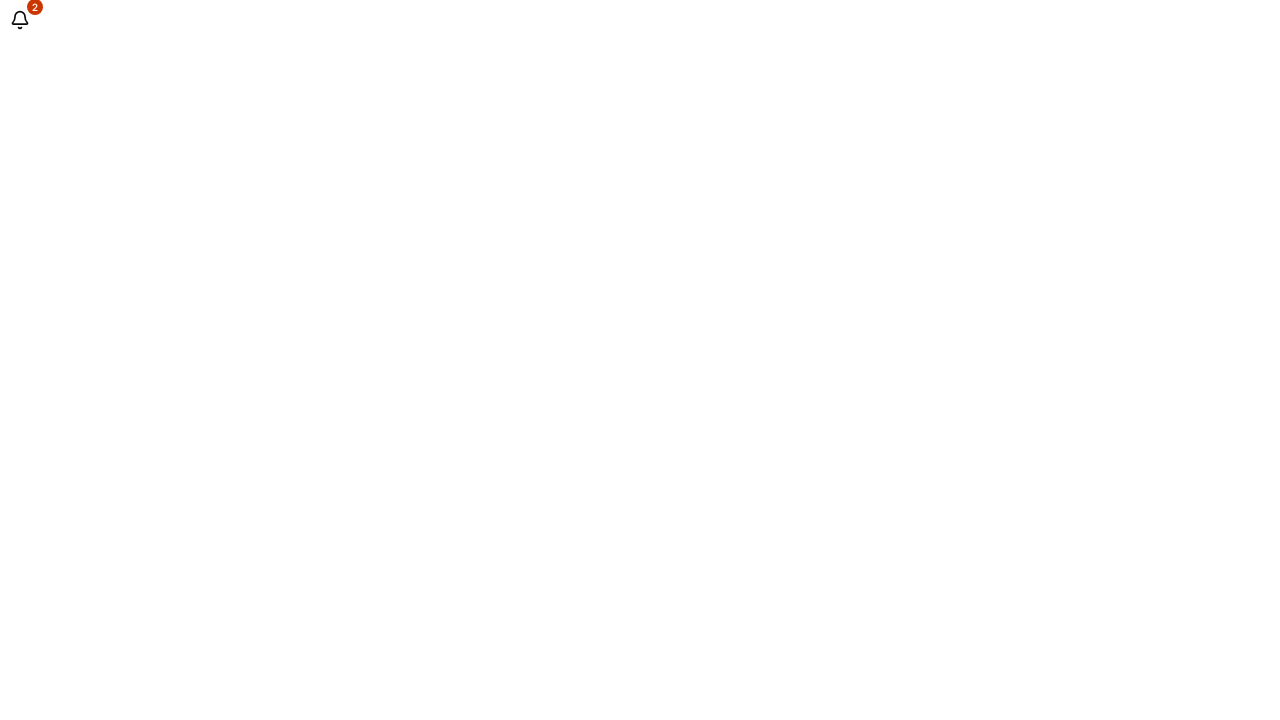
loads the list only when the bell opens and exposes a readable unread count
Click the button named "Notifications, 2 unread".
click(20, 20)  # box [0,0,40,40]
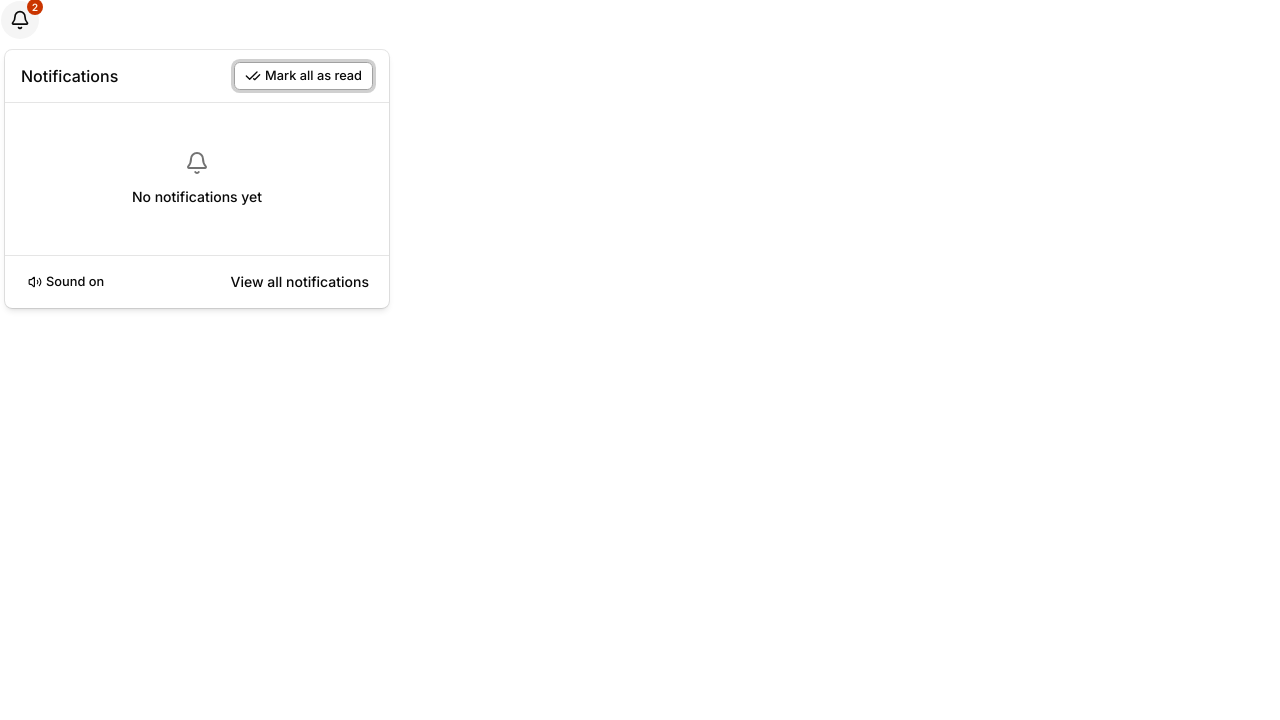
Now the text "No notifications yet" is shown, box [132,187,262,207]
